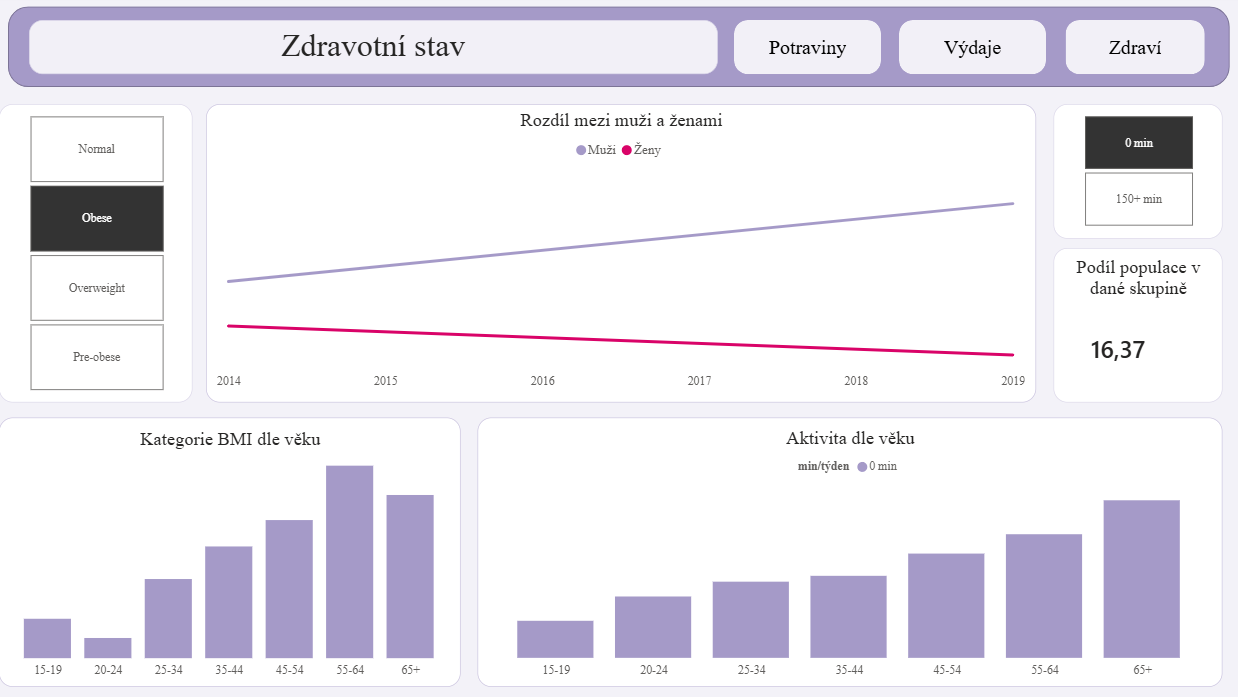

The dashboard page shown, as its layout file describes it:
{"tool":"powerbi","page":{"name":"Zdraví","canvas":[1280,720],"ordinal":3},"visuals":[{"type":"lineChart","title":"Rozdíl mezi muži a ženami","fields":{"Category":["Fact_Zdravi.Rok"],"Y":["Fact_Zdravi.Podil_obeznich"],"Series":["Fact_Zdravi.Pohlaví"]},"box":[226.6,112.5,837.8,301.7],"z":0},{"type":"clusteredColumnChart","title":"Kategorie BMI dle věku","fields":{"Y":["Fact_Zdravi.Podíl_BMI"],"Category":["Dim_Vek.Věk"]},"box":[18.8,428.3,465.8,272],"z":1000},{"type":"clusteredColumnChart","title":"Aktivita dle věku","fields":{"Y":["Avg(Fact_Fyzicka_Aktivita.Procento)"],"Series":["Fact_Fyzicka_Aktivita.min/týden"],"Category":["Dim_Vek.Věk"]},"box":[501.7,428.3,751.8,272],"z":2000},{"type":"cardVisual","title":"Podíl populace v dané skupině","fields":{"Data":["Fact_Zdravi.Podíl_BMI"]},"box":[1083.2,257.9,170.4,156.3],"z":3000},{"type":"slicer","fields":{"Values":["Fact_Zdravi.Kategorie_BMI"]},"box":[18.8,112.5,195.4,301.7],"z":4000},{"type":"slicer","fields":{"Values":["Fact_Fyzicka_Aktivita.min/týden"]},"box":[1083.2,112.5,170.4,136],"z":5000},{"type":"shape","box":[26.6,14.1,1233.2,81.3],"z":6000},{"type":"textbox","box":[48.5,26.6,695.5,54.7],"z":7000},{"type":"actionButton","box":[759.6,26.6,148.5,54.7],"z":8000},{"type":"actionButton","box":[926.9,26.6,148.5,54.7],"z":9000},{"type":"actionButton","box":[1094.1,26.6,140.7,54.7],"z":10000}]}

Visuals, with their boxes in screenshot pixels (x1, y1, x2, y2), scaled from the page's 1280x720 canvas onto the 1238x697 screenshot:
"Rozdíl mezi muži a ženami" lineChart: <box>219,109,1029,401</box>
"Kategorie BMI dle věku" clusteredColumnChart: <box>18,415,469,678</box>
"Aktivita dle věku" clusteredColumnChart: <box>485,415,1212,678</box>
"Podíl populace v dané skupině" cardVisual: <box>1048,250,1212,401</box>
slicer - Fact_Zdravi.Kategorie_BMI: <box>18,109,207,401</box>
slicer - Fact_Fyzicka_Aktivita.min/týden: <box>1048,109,1212,241</box>
shape: <box>26,14,1218,92</box>
textbox: <box>47,26,720,79</box>
actionButton: <box>735,26,878,79</box>
actionButton: <box>896,26,1040,79</box>
actionButton: <box>1058,26,1194,79</box>
